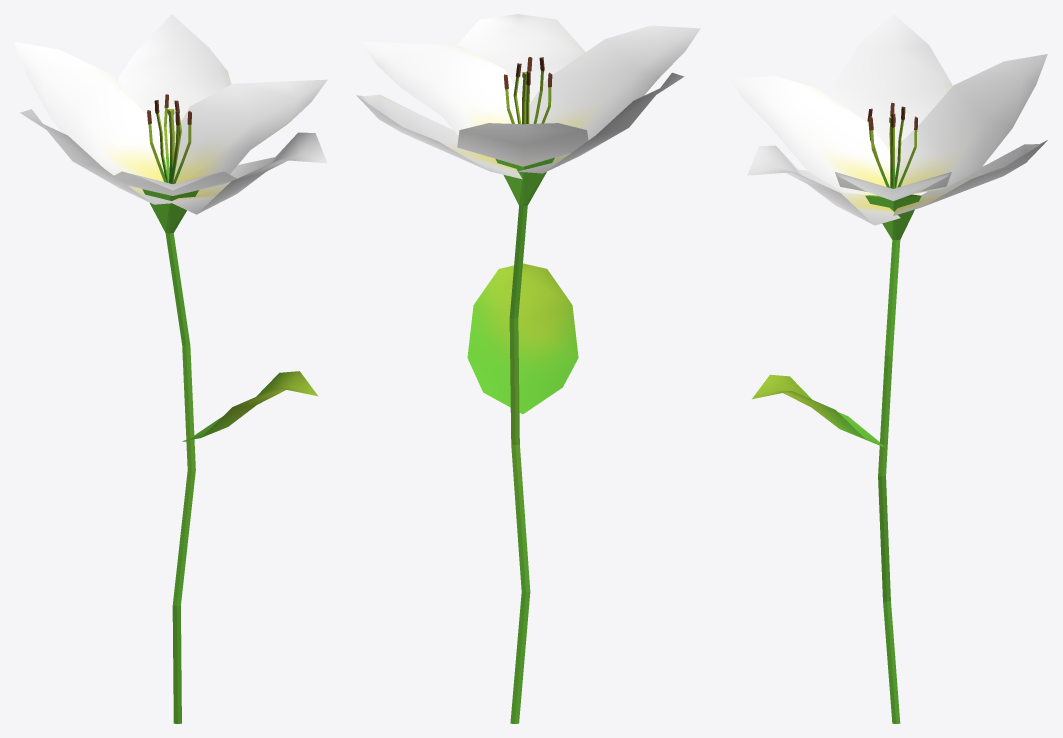
The model's file is Flower_Texture.FBX.
The picture shows the model from 3 angles, left to right: view 1: azimuth 30°, elevation 25°; view 2: azimuth 150°, elevation 25°; view 3: azimuth 270°, elevation 25°; orthographic projection. The views are drawn at different scales.
Visible parts, largest first — view 1: Petal_5, Flower_Stem, Petal_4, Petal_1, Petal_3, Petal_2, Petal_6; view 2: Flower_Stem, Petal_6, Petal_4, Petal_3, Petal_5, Petal_1, Petal_2; view 3: Petal_5, Petal_6, Petal_2, Flower_Stem, Petal_3, Petal_1, Petal_4.
Boxes of the visible parts, left/top/right/bottom form: Petal_5: left=14, top=42, right=169, bottom=181; Flower_Stem: left=142, top=94, right=317, bottom=723; Petal_4: left=174, top=79, right=327, bottom=183; Petal_1: left=118, top=14, right=231, bottom=135; Petal_3: left=170, top=132, right=327, bottom=214; Petal_2: left=20, top=109, right=171, bottom=204; Petal_6: left=114, top=171, right=236, bottom=195; Flower_Stem: left=467, top=57, right=578, bottom=723; Petal_6: left=529, top=25, right=700, bottom=140; Petal_4: left=360, top=41, right=521, bottom=135; Petal_3: left=443, top=14, right=585, bottom=129; Petal_5: left=457, top=123, right=588, bottom=166; Petal_1: left=356, top=94, right=522, bottom=179; Petal_2: left=518, top=72, right=684, bottom=173; Petal_5: left=895, top=54, right=1047, bottom=193; Petal_6: left=730, top=76, right=890, bottom=195; Petal_2: left=833, top=14, right=952, bottom=195; Flower_Stem: left=752, top=102, right=921, bottom=723; Petal_3: left=747, top=145, right=900, bottom=225; Petal_1: left=893, top=140, right=1047, bottom=215; Petal_4: left=835, top=172, right=951, bottom=201.
Bounding box in the file's own units: 12.63 × 25.47 × 11.64.
1 material, 1 textured.
